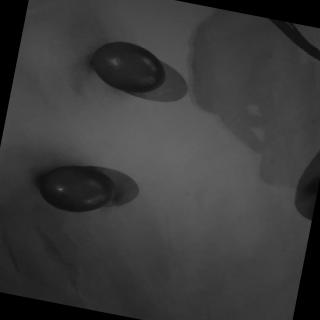Telur: (79, 34, 178, 107), (28, 156, 125, 224)
